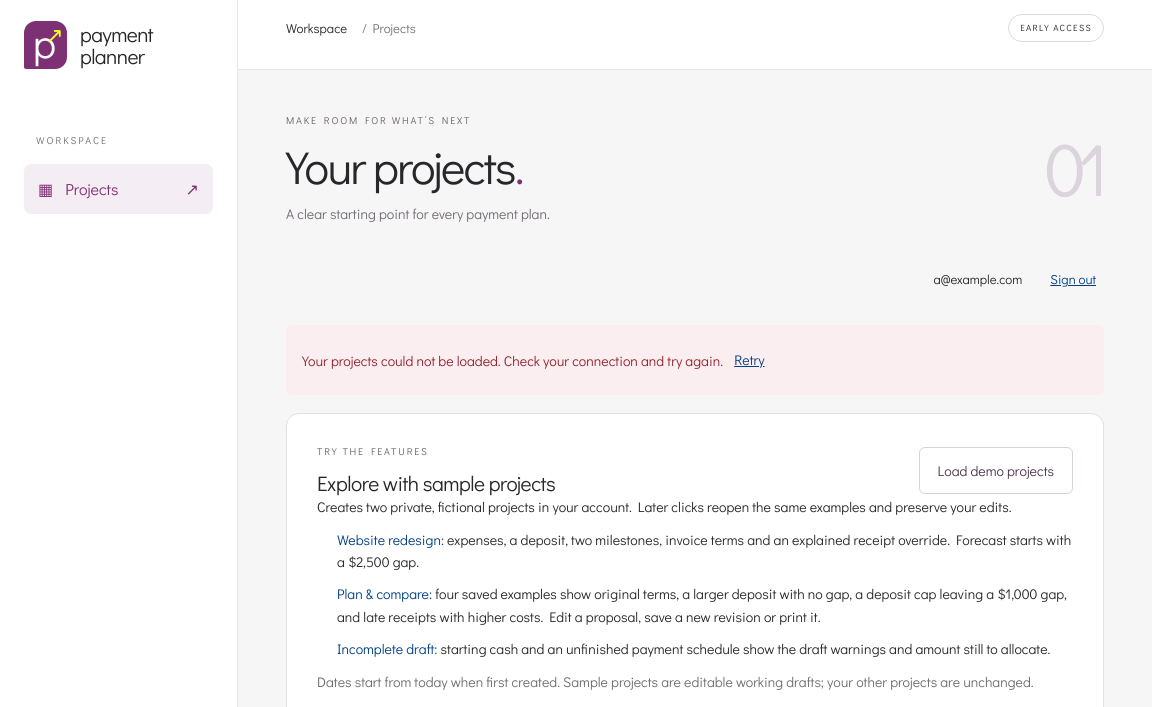
Scenario: offers retry after failing to load projects
Expected: the message shows "could not be loaded", top-left (302, 350), bottom-right (723, 370)
Click the button "Retry".
click(749, 360)  # box top-left (726, 338), bottom-right (773, 382)
(page scrolled)
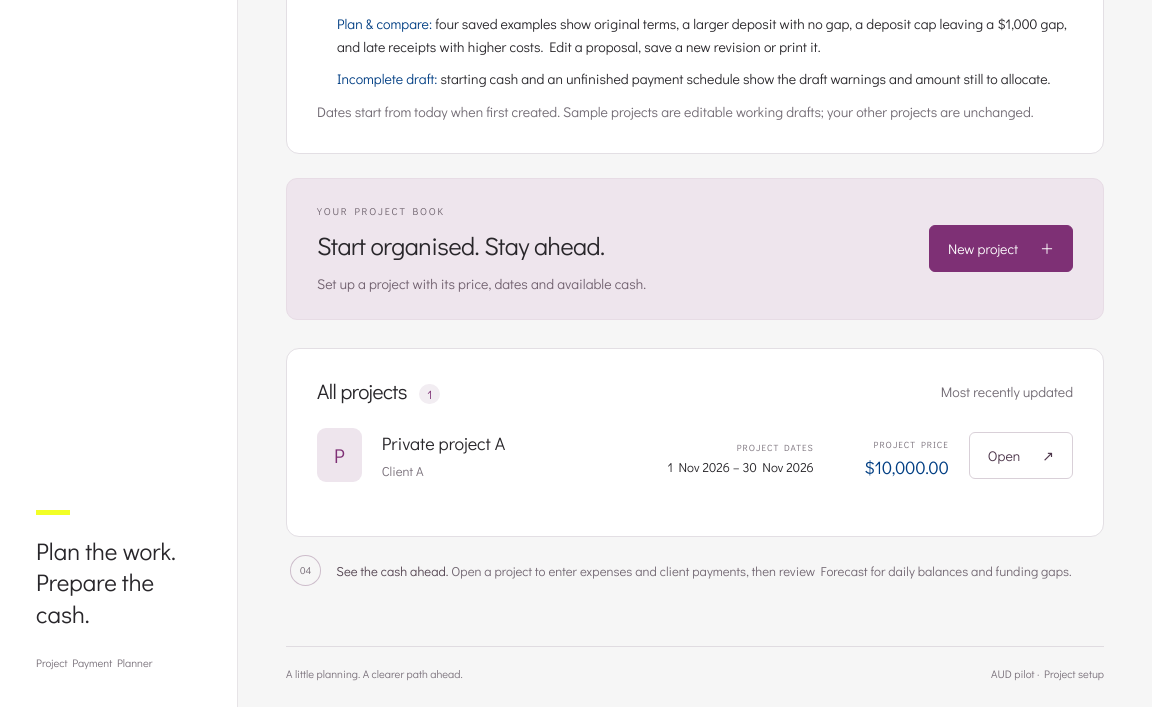
Result: the heading "Private project A" is shown at top-left (382, 431), bottom-right (505, 455)
